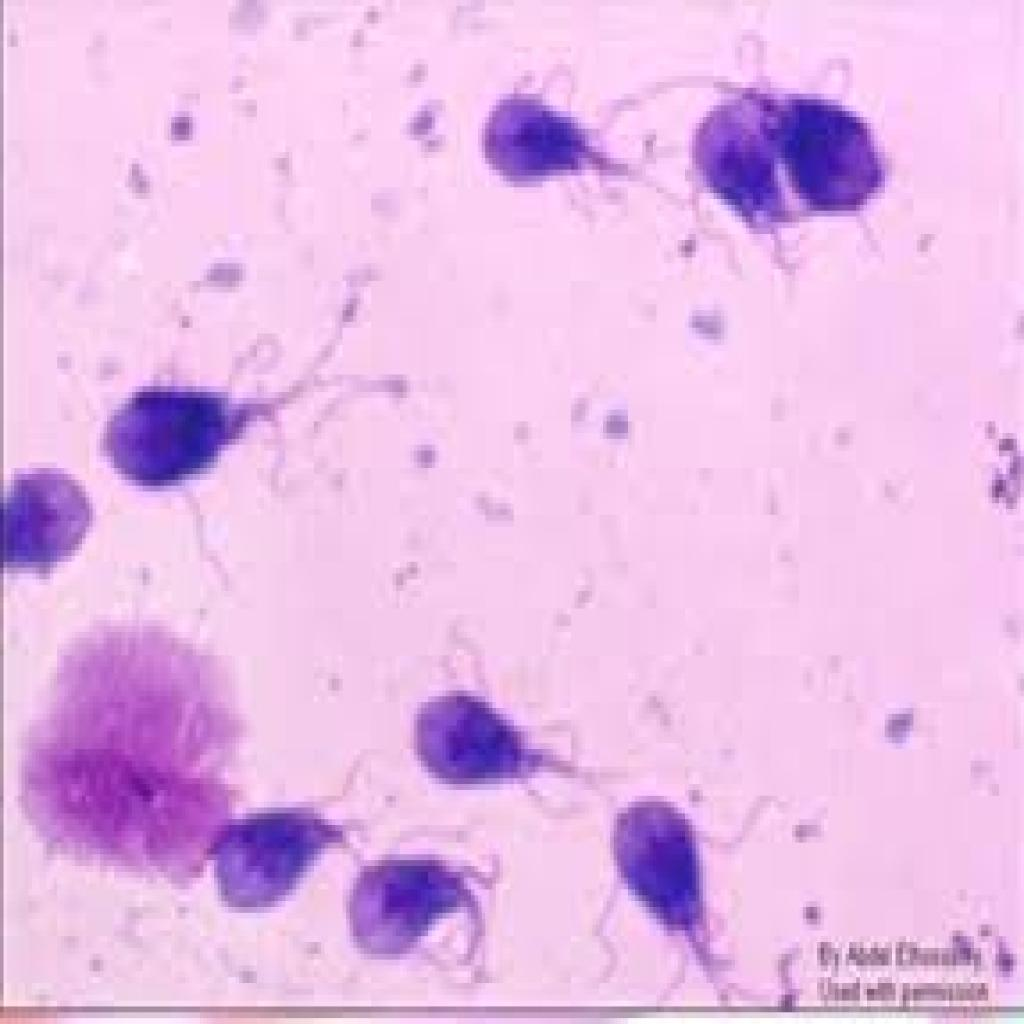Giardia: (685, 59, 896, 275), (600, 790, 767, 1018), (96, 363, 325, 515), (403, 655, 603, 825), (342, 848, 506, 989), (214, 784, 364, 913), (474, 82, 628, 199)
